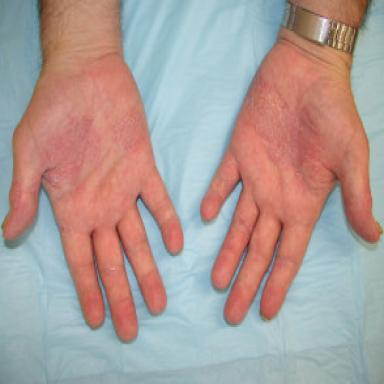eczema: (241, 73, 318, 162), (43, 109, 102, 186), (111, 108, 146, 153)
